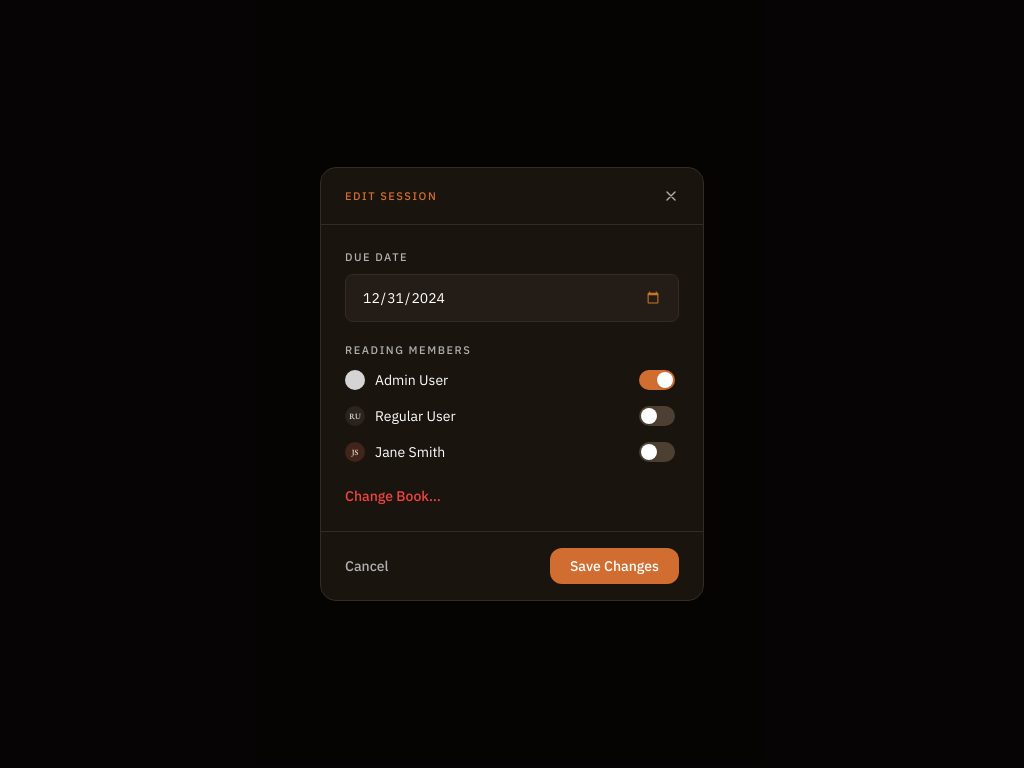
Scenario: EditSessionModal › Change Book flow › should go back to the edit view
Click the button "Change Book…" at {"x": 393, "y": 496}, box [345, 486, 441, 506]
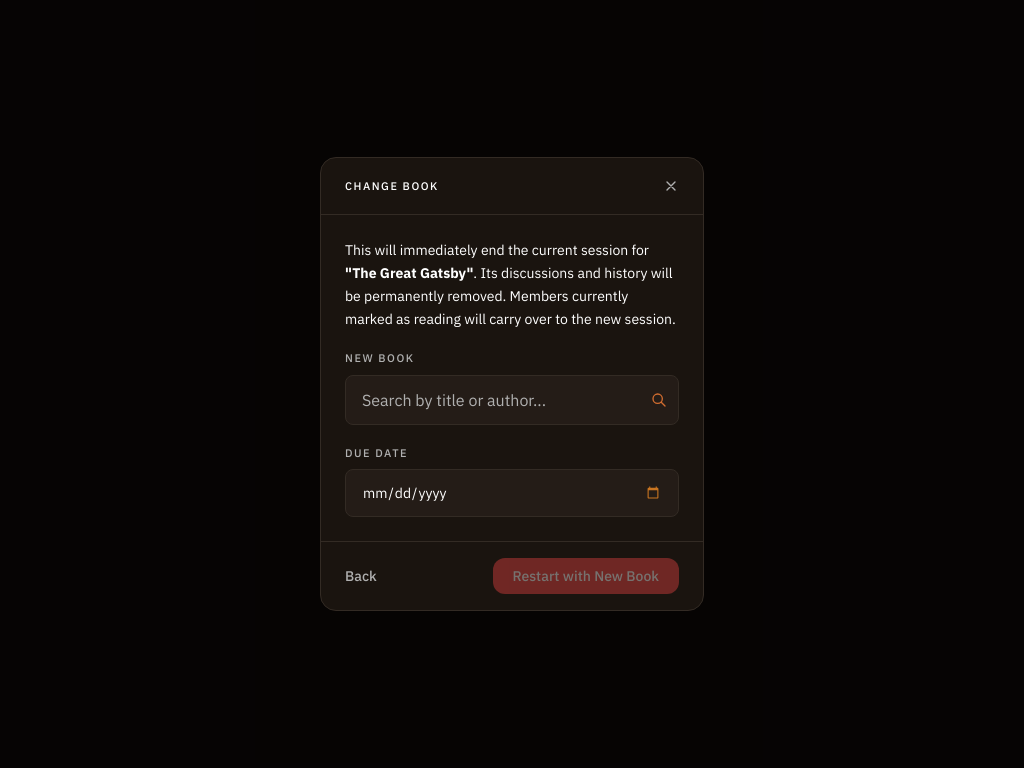
Click the button "Back" at {"x": 361, "y": 576}, box [345, 566, 377, 586]
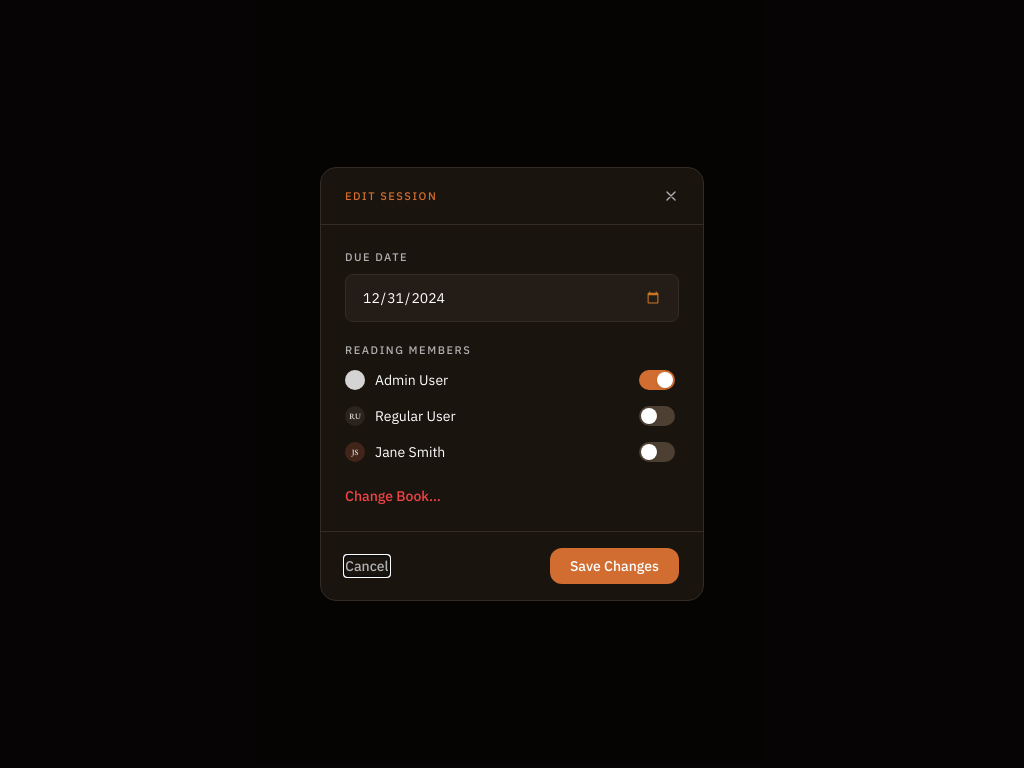
Check: the heading "Edit Session" is shown, box [345, 188, 437, 204]
